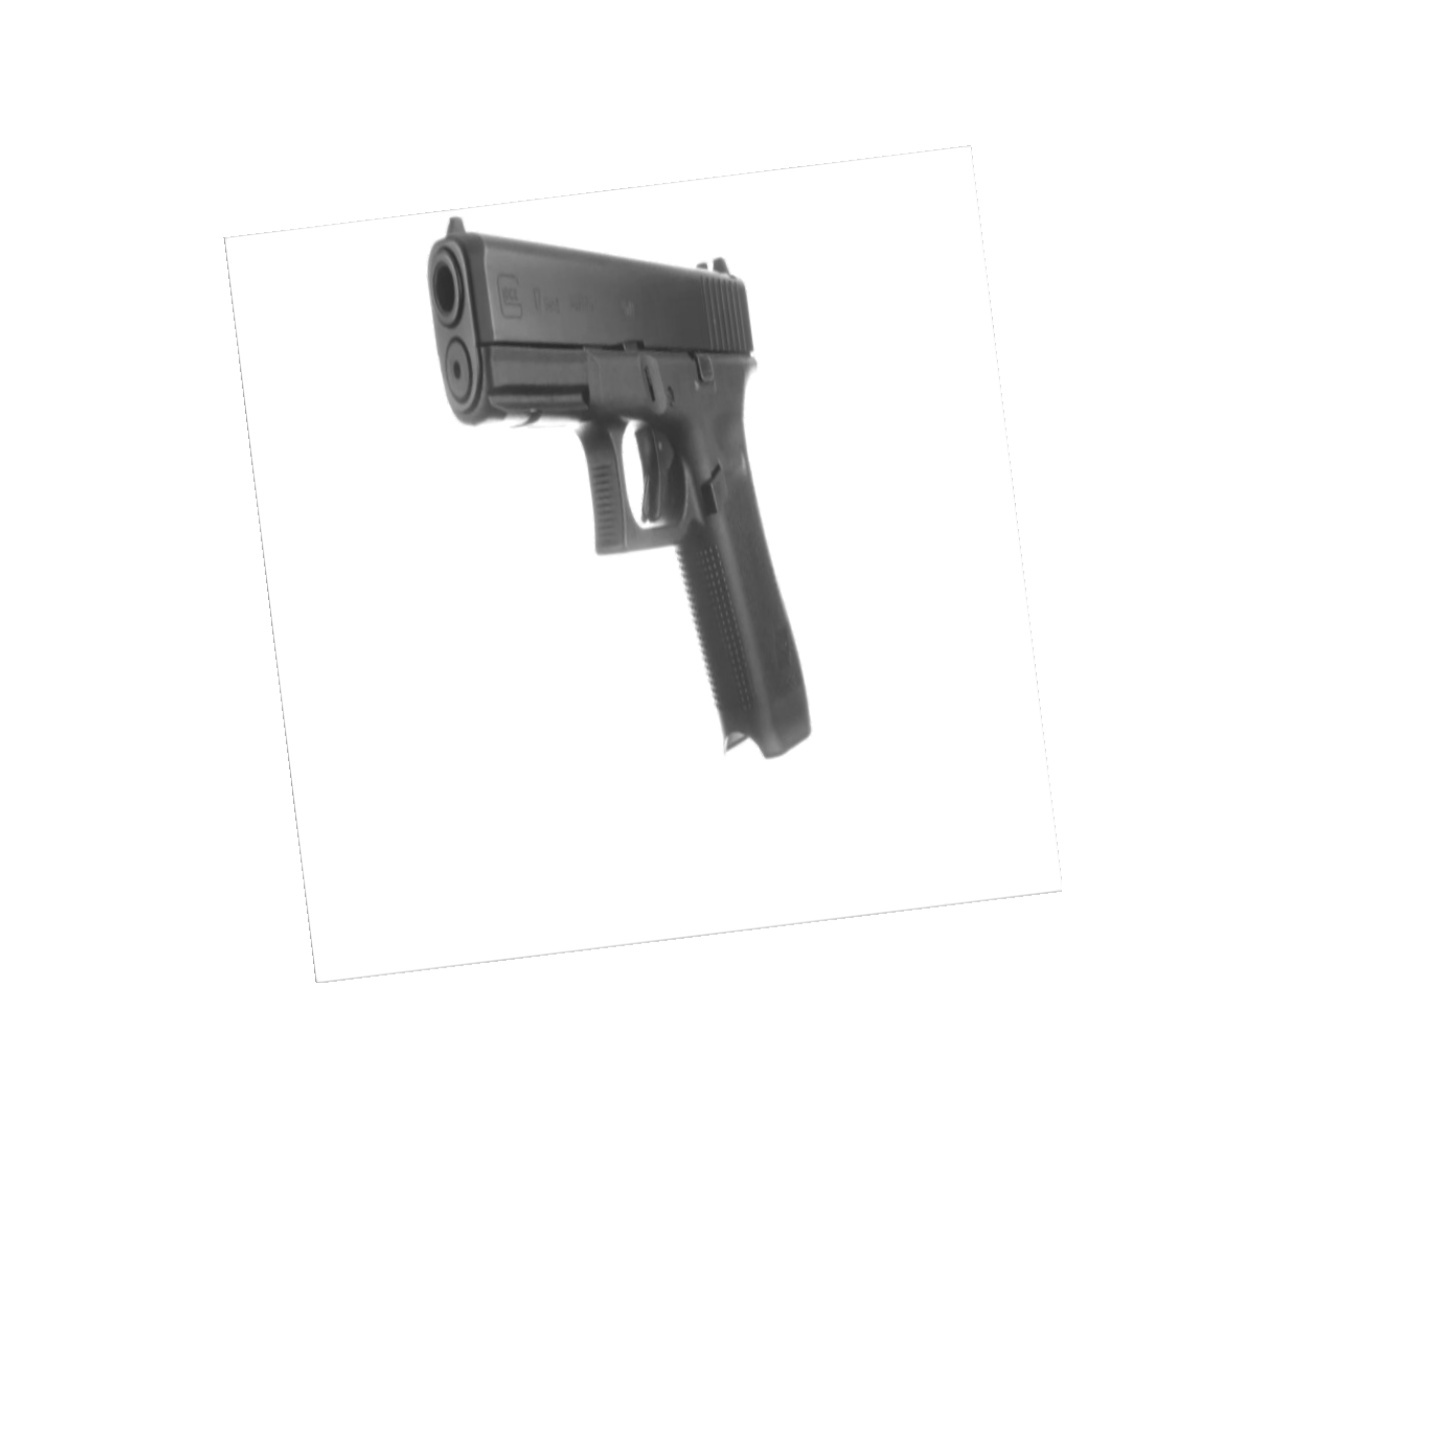gun: (425, 216, 811, 756)
